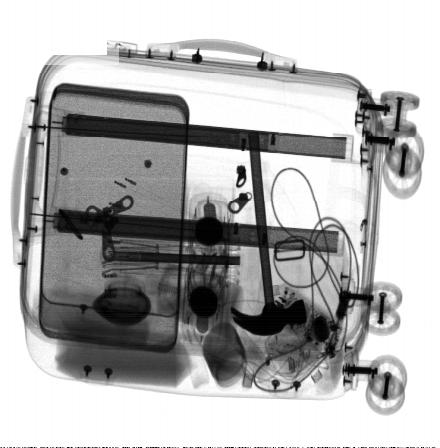Hammer: (229, 130, 307, 337)
